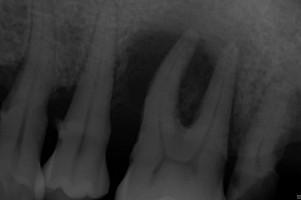Dental Caries: (111, 30, 181, 117), (177, 40, 214, 127)
